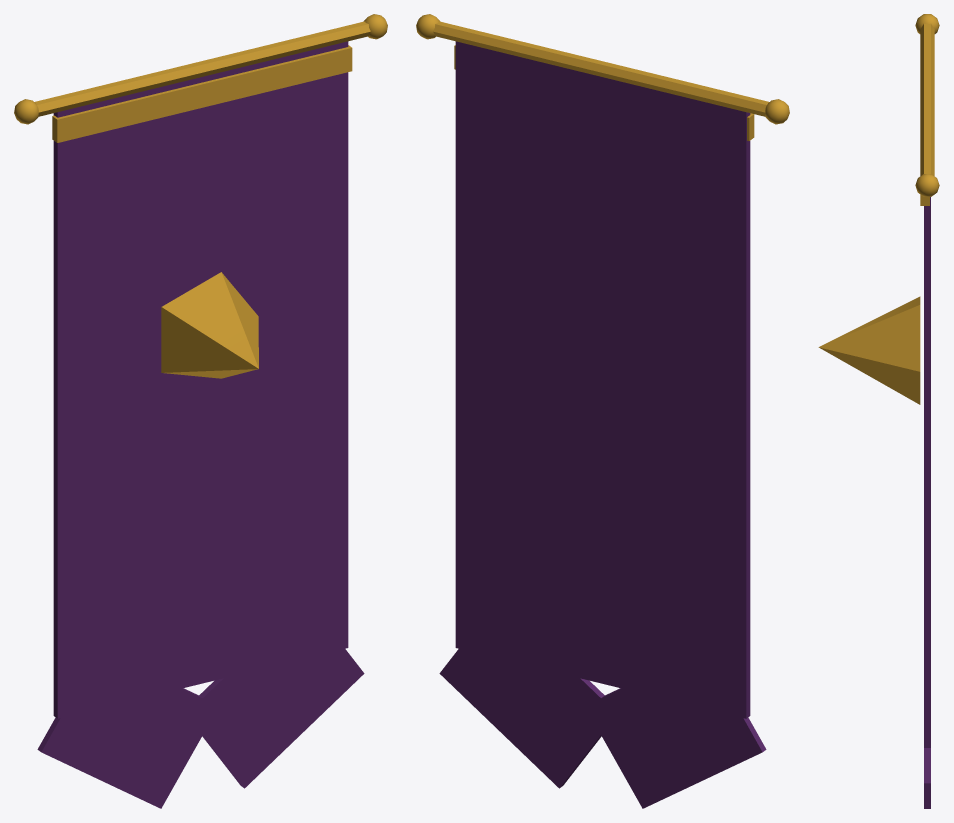
Rendered from guild_banner.glb.
3 renders of one model, left to right at view 1: azimuth 30°, elevation 25°; view 2: azimuth 150°, elevation 25°; view 3: azimuth 270°, elevation 25°, orthographic. The views are drawn at different scales.
Parts seen in each view (by area): view 1: guild_banner; view 2: guild_banner; view 3: guild_banner.
Boxes of the visible parts, box(x1,y1,x2,y2) form: guild_banner: box(14, 14, 387, 808); guild_banner: box(416, 14, 789, 808); guild_banner: box(818, 14, 939, 808).
Size of the model in its own units: 1.66 by 3.16 by 0.5.
